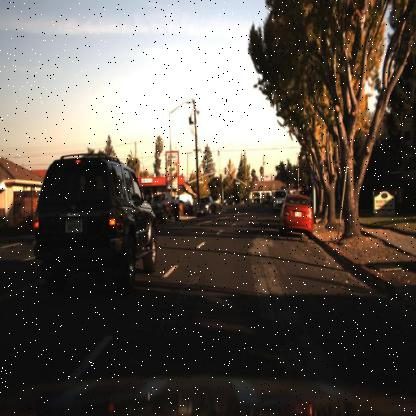car: (33, 140, 156, 307), (277, 189, 318, 234), (147, 194, 181, 224), (194, 192, 219, 222), (270, 186, 289, 216)
